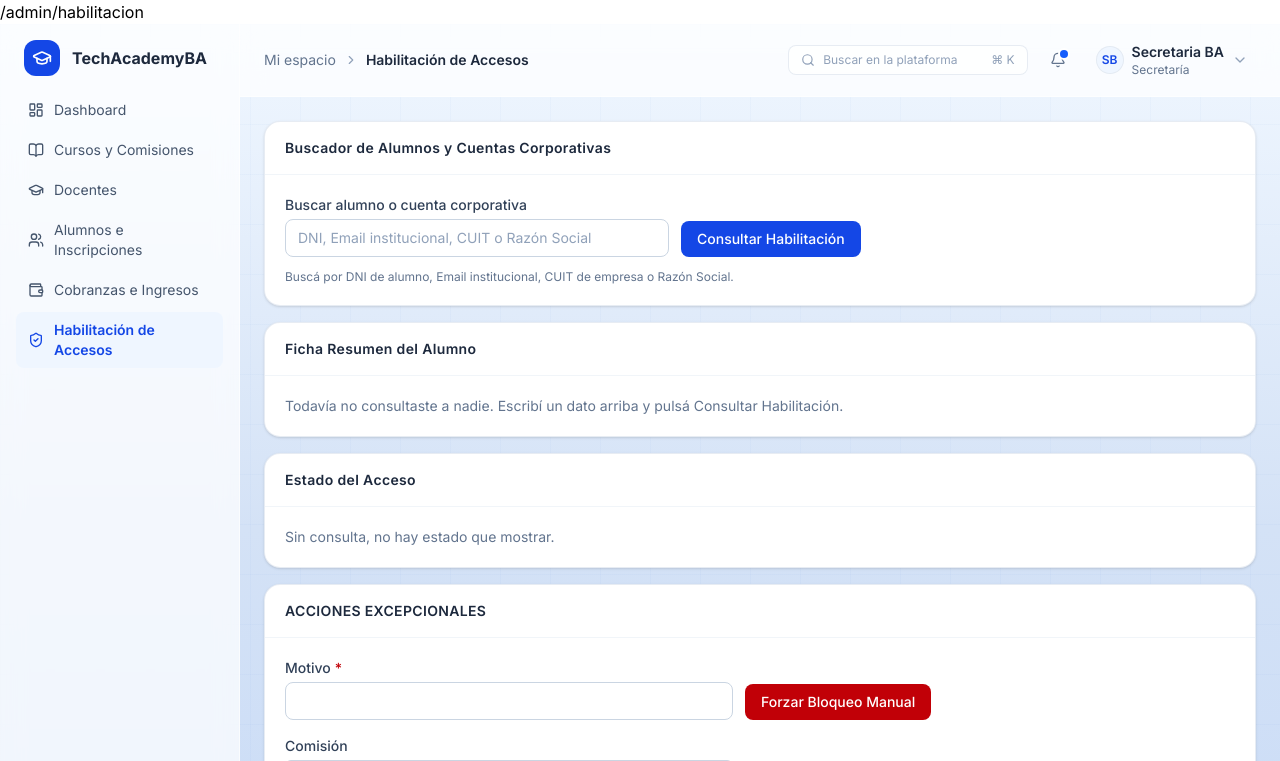
Test case: acciones excepcionales › no deja forzar el bloqueo con el motivo vacío
Expected: the heading "Buscador de Alumnos y Cuentas Corporativas" is shown, x1=285 y1=138 x2=611 y2=158
Type "38.456.789" into the field labelled "Buscar alumno o cuenta corporativa". click: point(477, 238)
box: x1=285 y1=219 x2=669 y2=257
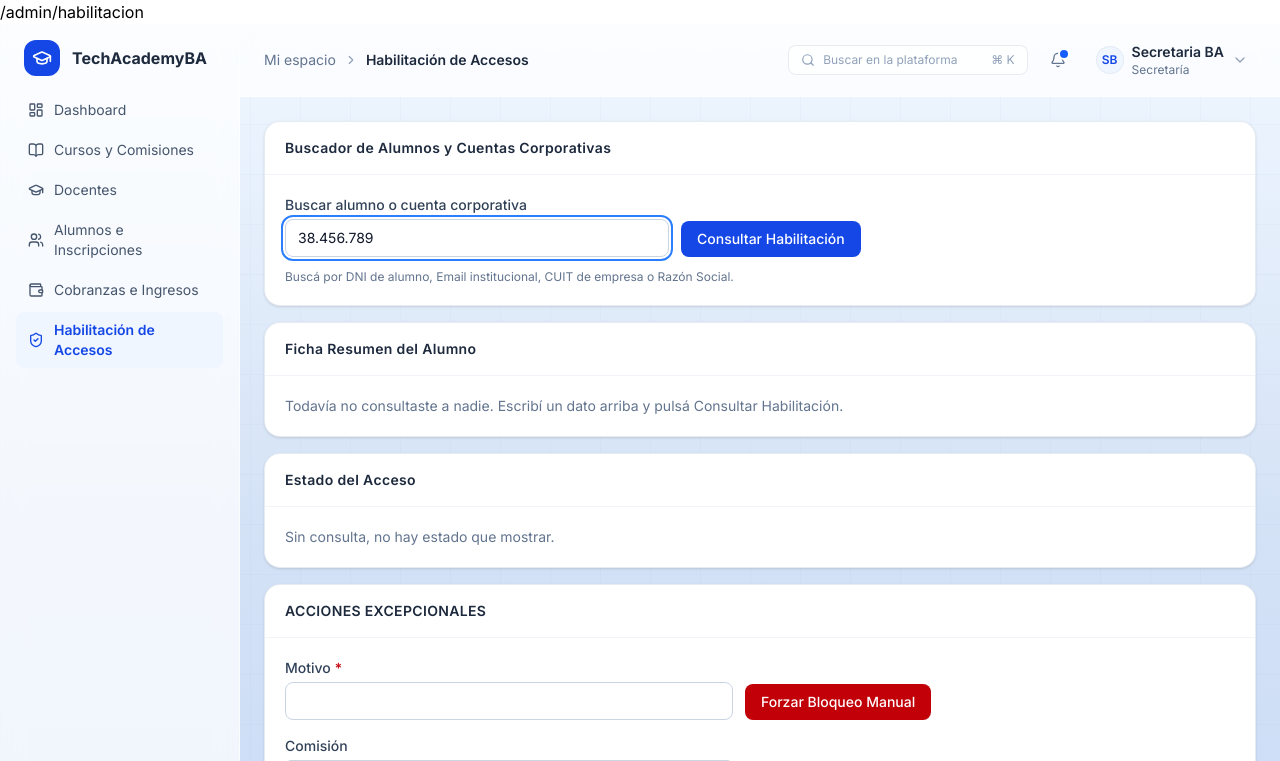
Click the button "Consultar Habilitación". click: point(771, 239)
box: x1=681 y1=221 x2=861 y2=257
(page scrolled)
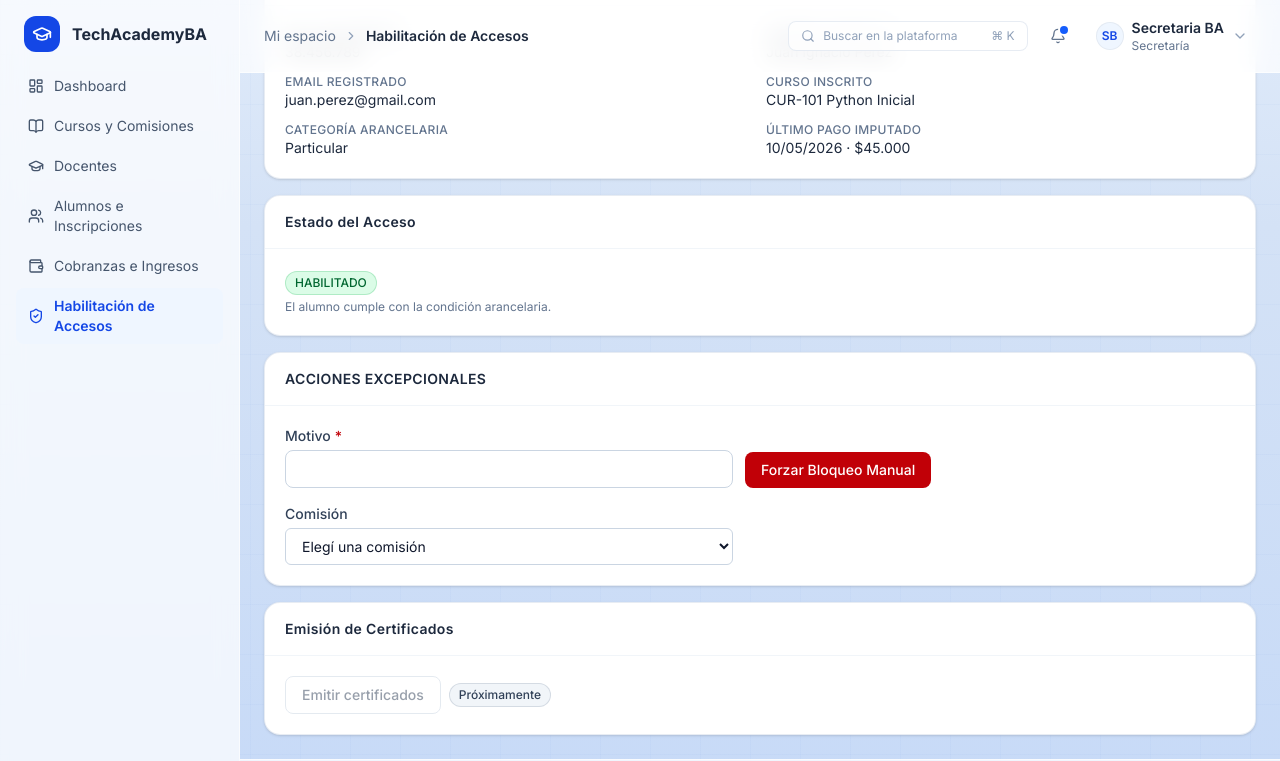
Result: the text "Juan Ignacio Pérez" is shown at x1=766 y1=43 x2=892 y2=60
Click the button "Forzar Bloqueo Manual". click: point(838, 470)
box: x1=745 y1=452 x2=931 y2=488
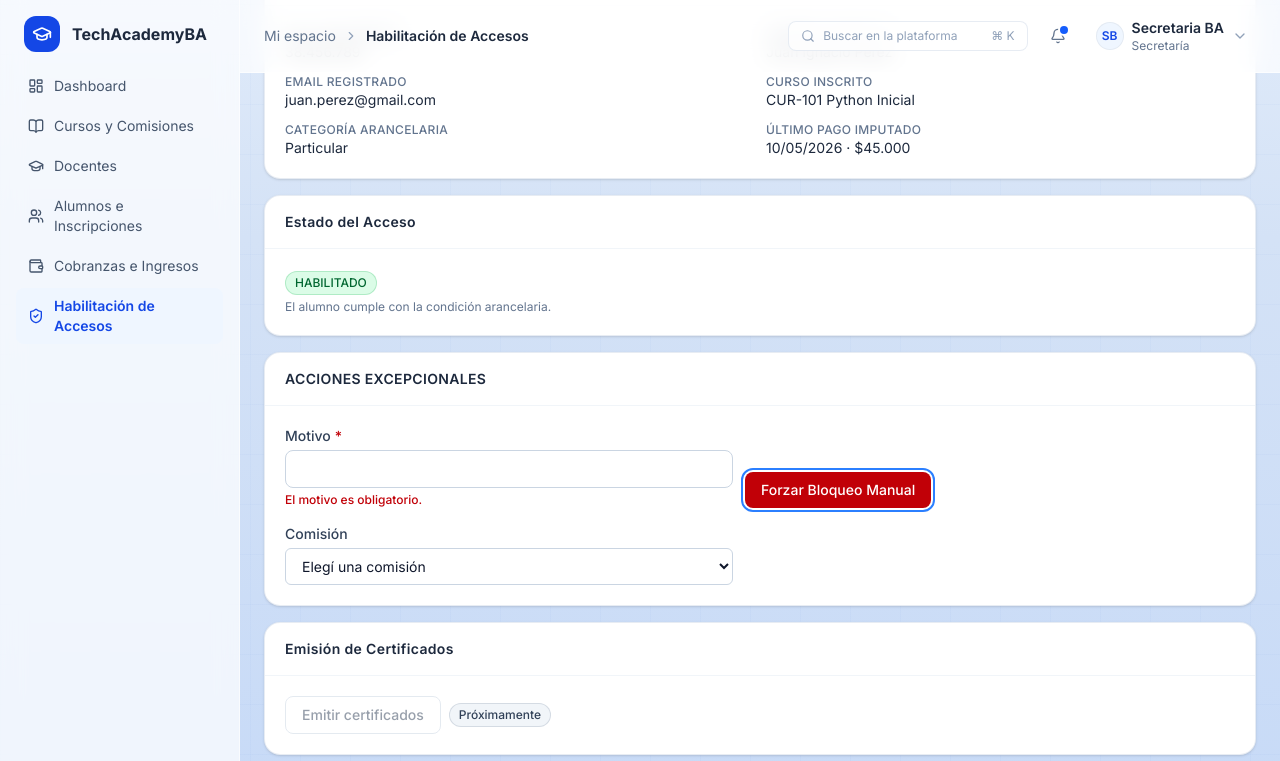
Result: the text "HABILITADO" is shown at x1=285 y1=271 x2=377 y2=295
Result: the text "El motivo es obligatorio." is shown at x1=285 y1=492 x2=422 y2=507
